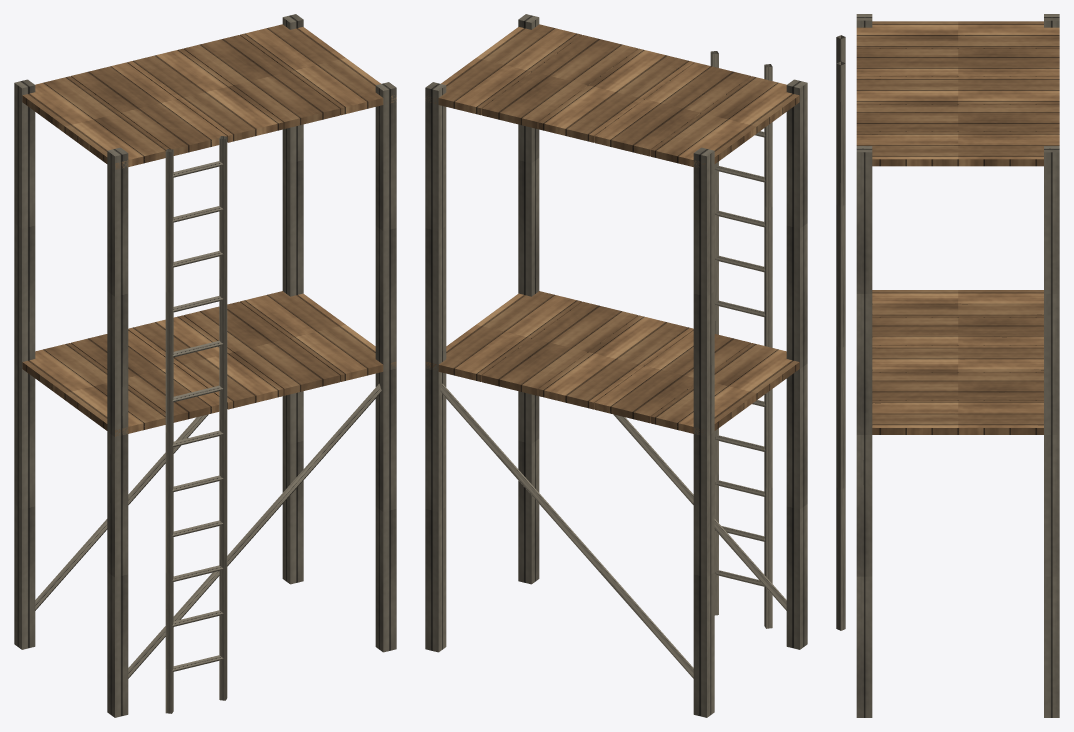
The model's file is Frame_Scaffold_1.gltf.
3 renders of one model, left to right at view 1: azimuth 30°, elevation 25°; view 2: azimuth 150°, elevation 25°; view 3: azimuth 270°, elevation 25°, orthographic.
Visible parts, largest first — view 1: Frame_Scaffold_1; view 2: Frame_Scaffold_1; view 3: Frame_Scaffold_1.
Boxes of the visible parts, x1,y1,x2,y2 form: Frame_Scaffold_1: (14,14,396,717); Frame_Scaffold_1: (425,14,807,717); Frame_Scaffold_1: (836,14,1059,717).
Size of the model in its own units: 2.1 by 4 by 1.43.
2 materials, 2 textured.
